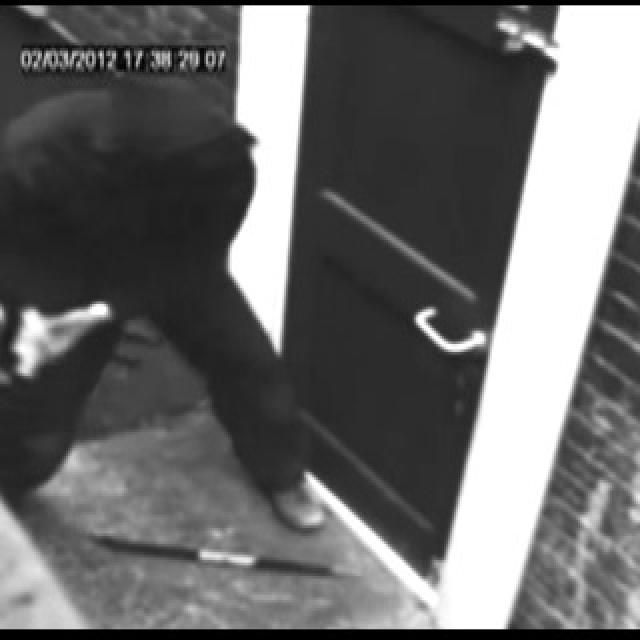thief: (0, 72, 263, 276)
